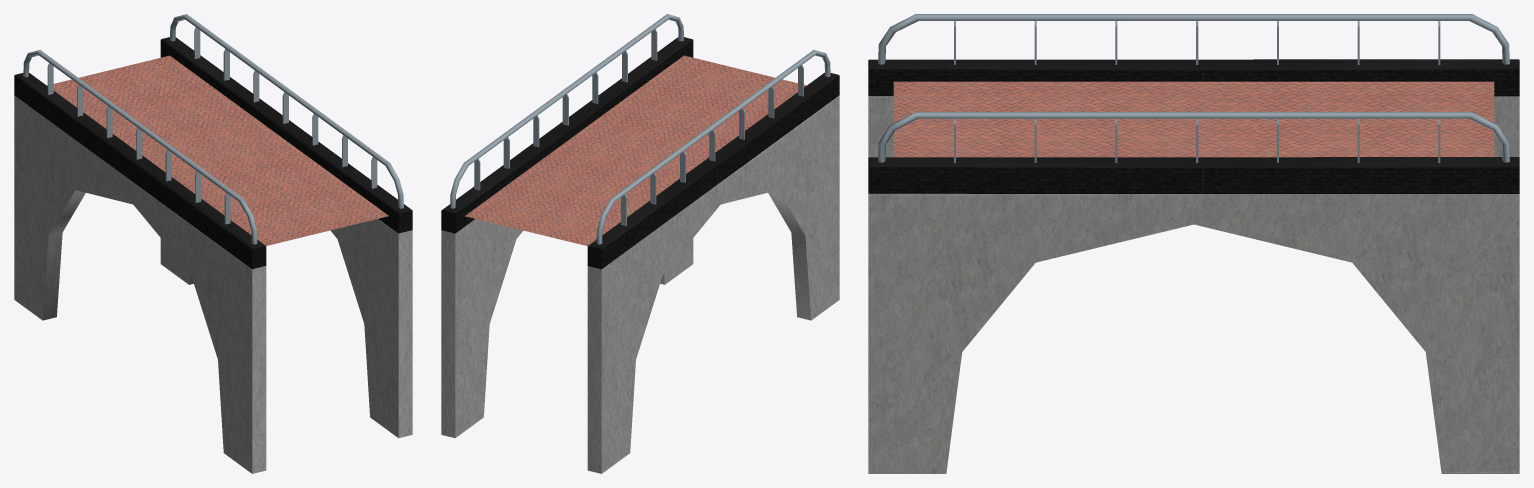
Rendered from brug.fbx.
3 views of the same model, side by side, from view 1: azimuth 30°, elevation 25°; view 2: azimuth 150°, elevation 25°; view 3: azimuth 270°, elevation 25° (orthographic). The views are drawn at different scales.
Visible parts, largest first — view 1: polySurface97; view 2: polySurface97; view 3: polySurface97.
Boxes of the visible parts, x1,y1,x2,y2 form: polySurface97: (14, 14, 412, 473); polySurface97: (441, 14, 839, 473); polySurface97: (868, 14, 1519, 473).
Size of the model in its own units: 4.25 by 6.6 by 10.93.
